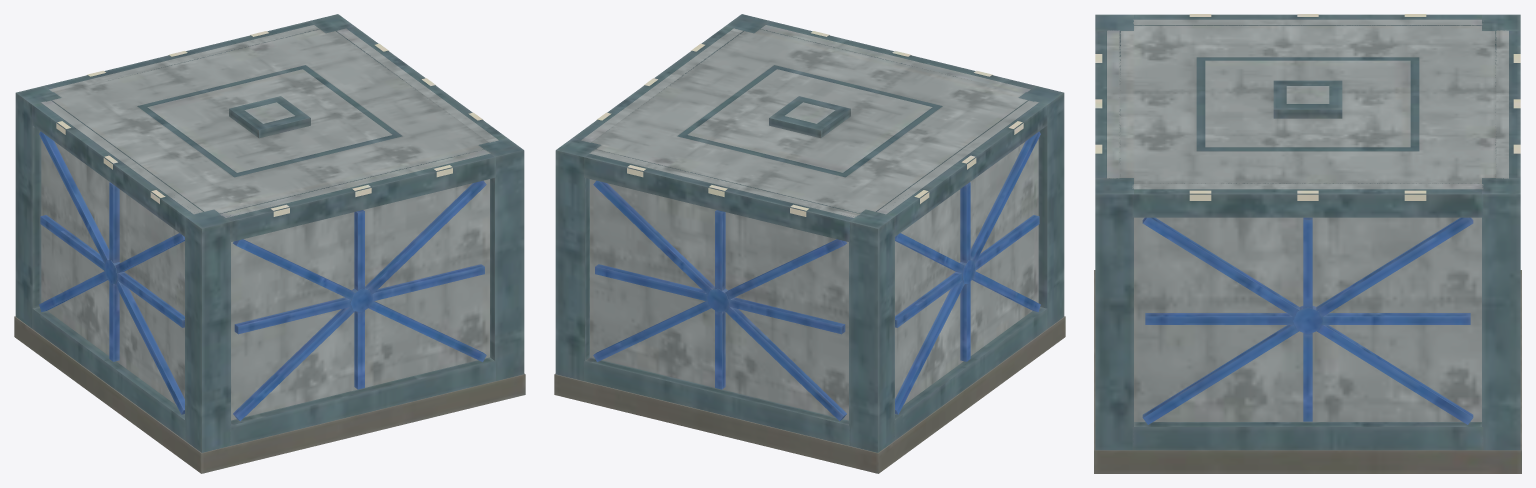
The model's file is hull_pressurized_closed.glb.
3 views of the same model, side by side, from view 1: azimuth 30°, elevation 25°; view 2: azimuth 150°, elevation 25°; view 3: azimuth 270°, elevation 25° (orthographic). The views are drawn at different scales.
Parts seen in each view (by area): view 1: te_hull_pressurized_closed; view 2: te_hull_pressurized_closed; view 3: te_hull_pressurized_closed.
Part boxes in pixels (x1,y1,x2,y2): te_hull_pressurized_closed: (14, 14, 525, 473); te_hull_pressurized_closed: (554, 14, 1065, 473); te_hull_pressurized_closed: (1094, 14, 1521, 473).
Size of the model in its own units: 1 by 0.7446 by 1.
Materials: 1 (1 with a texture image).
